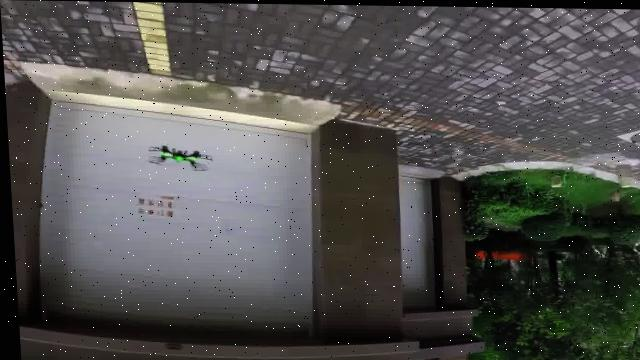drone: (139, 147, 220, 177)
